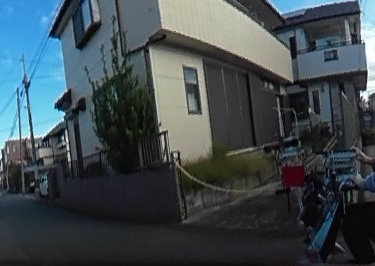person: (342, 59, 375, 266)
